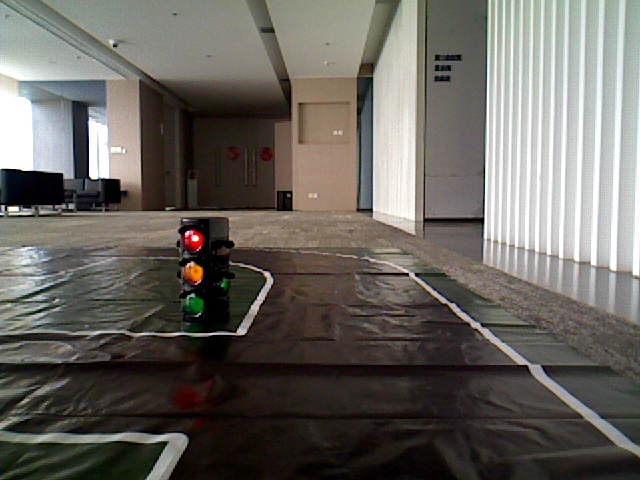red: (179, 218, 216, 317)
